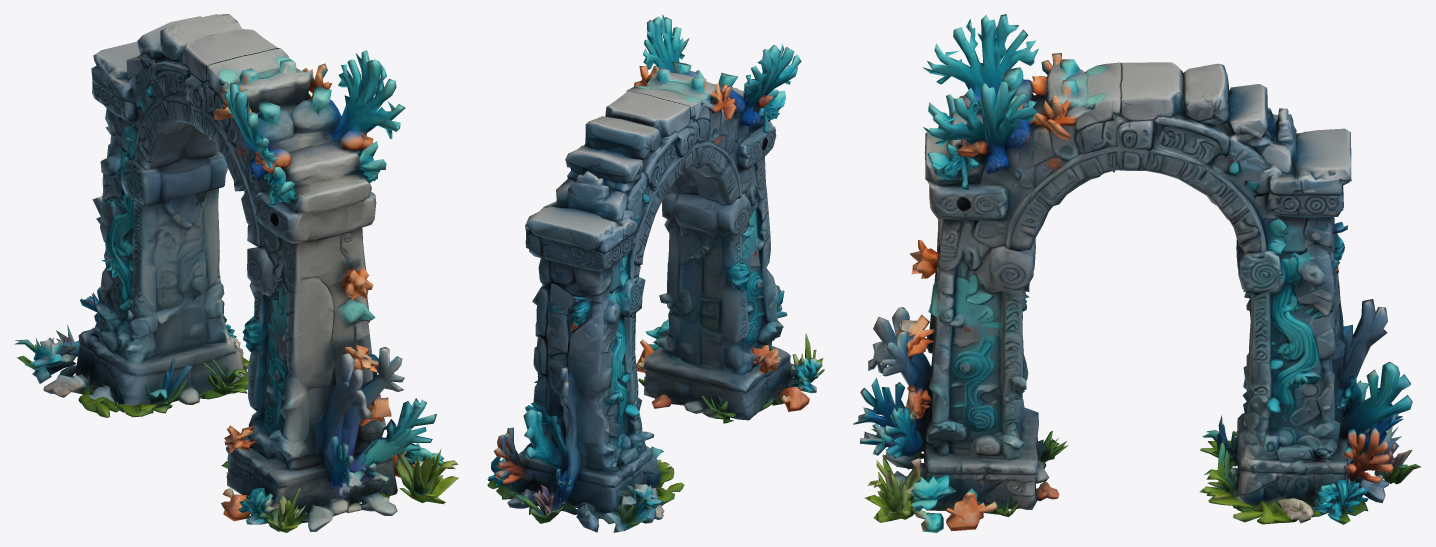
File: ancient_arch.glb
3 renders of one model, left to right at view 1: azimuth 30°, elevation 25°; view 2: azimuth 150°, elevation 25°; view 3: azimuth 270°, elevation 25°, orthographic. The views are drawn at different scales.
Parts seen in each view (by area): view 1: tripo_node_df06a15e-27b2-4229-bc6c-a9cce2c6d2aa; view 2: tripo_node_df06a15e-27b2-4229-bc6c-a9cce2c6d2aa; view 3: tripo_node_df06a15e-27b2-4229-bc6c-a9cce2c6d2aa.
Part boxes in pixels (x1,y1,x2,y2): tripo_node_df06a15e-27b2-4229-bc6c-a9cce2c6d2aa: [14, 14, 458, 532]; tripo_node_df06a15e-27b2-4229-bc6c-a9cce2c6d2aa: [487, 14, 824, 532]; tripo_node_df06a15e-27b2-4229-bc6c-a9cce2c6d2aa: [853, 14, 1420, 532].
Bounding box in the file's own units: 0.4712 × 0.8434 × 1.
1 material, 1 textured.
